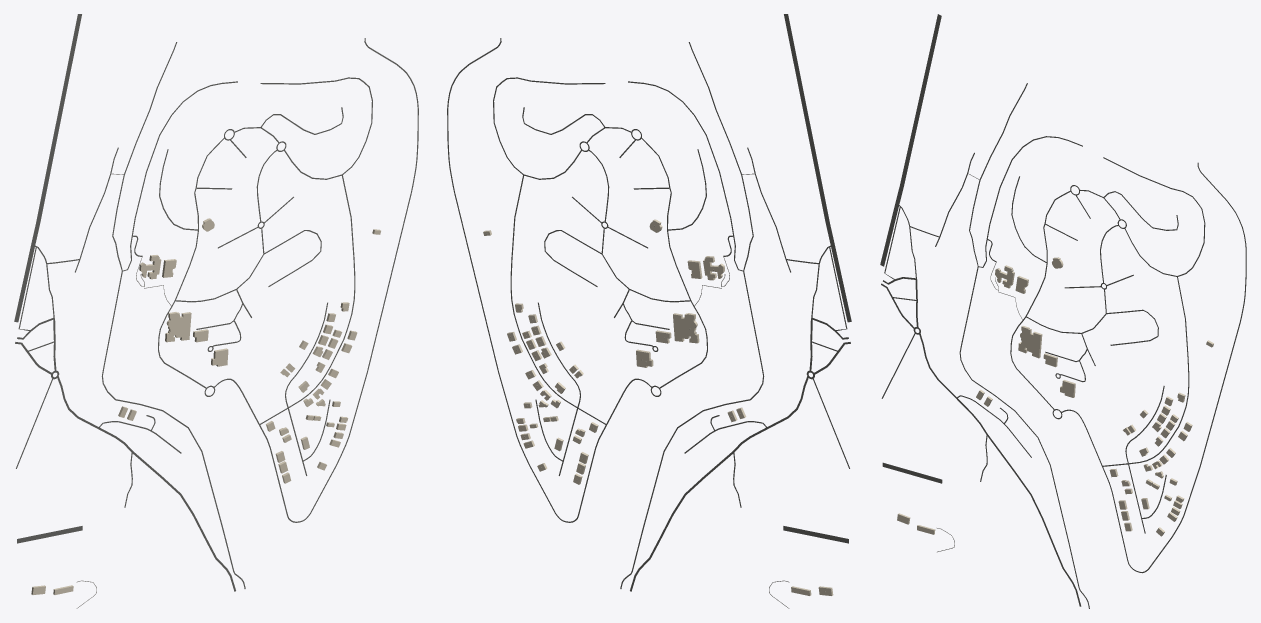
File: historic-palestine-08_31_3495_3259.glb
3 renders of one model, left to right at view 1: azimuth 30°, elevation 25°; view 2: azimuth 150°, elevation 25°; view 3: azimuth 330°, elevation 25°, orthographic. The views are drawn at different scales.
Visible parts, largest first — view 1: Road כביש חיפה-רעננה, Road .032, Road .005, Road .001, Building_.006; view 2: Road כביש חיפה-רעננה, Road .032, Road .005, Road .001, Building_.006; view 3: Road כביש חיפה-רעננה, Road .032, Road .005, Road .001, Building_.006.
Part boxes in pixels (<box>): Road כביש חיפה-רעננה: <box>14,14,81,322</box>; Road .032: <box>213,38,418,522</box>; Road .005: <box>112,42,237,271</box>; Road .001: <box>101,271,245,588</box>; Building_.006: <box>165,312,191,342</box>; Road כביש חיפה-רעננה: <box>784,14,851,322</box>; Road .032: <box>447,38,652,522</box>; Road .005: <box>628,42,753,271</box>; Road .001: <box>620,271,764,588</box>; Building_.006: <box>673,313,699,343</box>; Road כביש חיפה-רעננה: <box>880,14,941,266</box>; Road .032: <box>1061,162,1246,573</box>; Road .005: <box>969,83,1082,267</box>; Road .001: <box>959,267,1089,608</box>; Building_.006: <box>1018,326,1042,358</box>.
Bounding box in the file's own units: 1096 × 1594 × 8.7.
